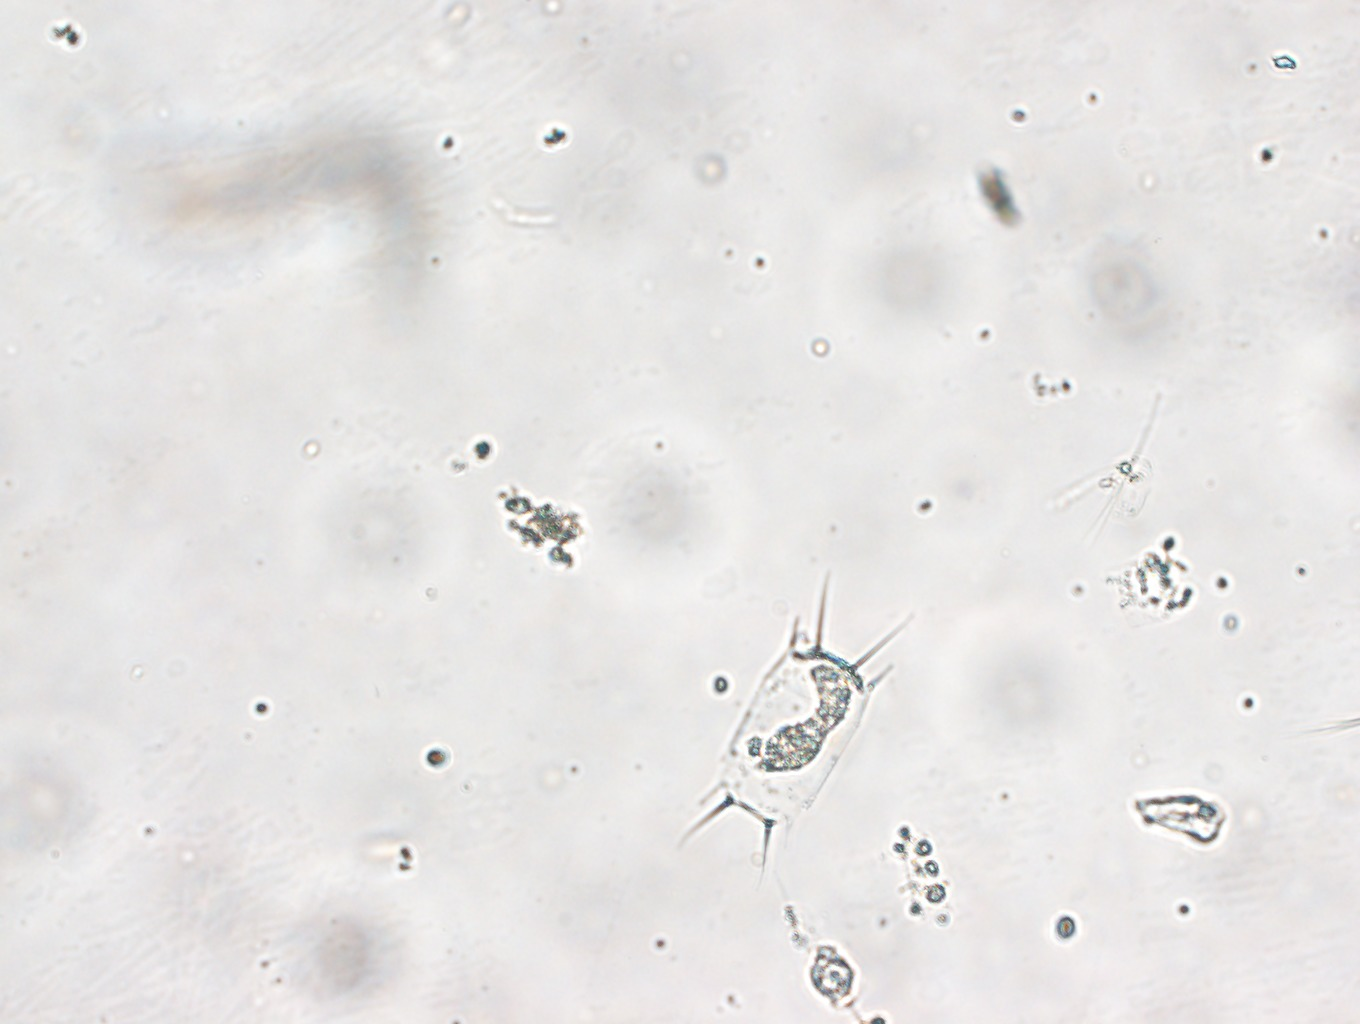biddulphia: (675, 572, 916, 883)
